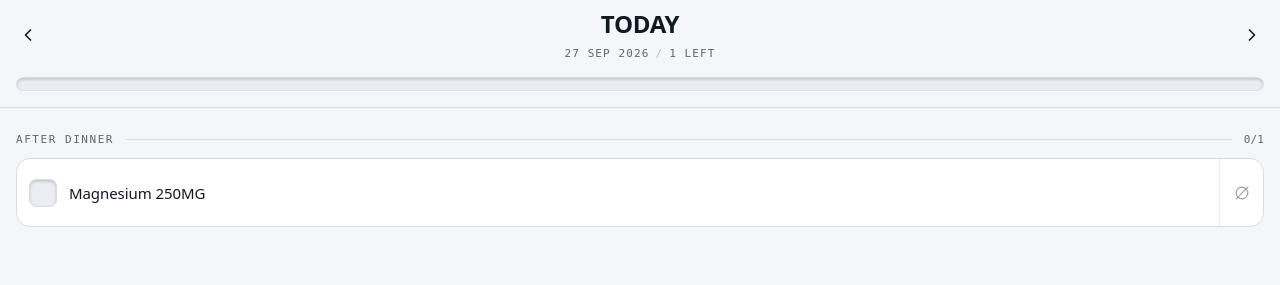
Test: the Today screen › marks an untouched past dose as missed
Click the button named "previous day" at (28, 35), box [12,19,44,51]
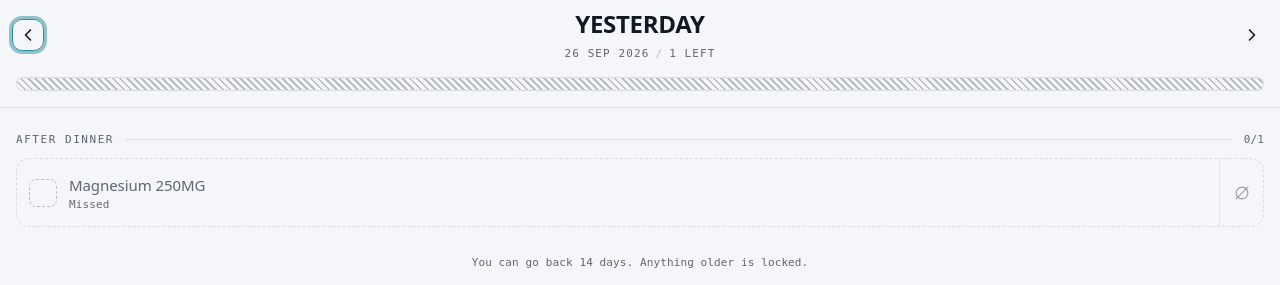
Now the text "Missed" is shown, box [69,198,109,211]
Click the button "Magnesium 250MG Missed" at (137, 185), box [17,159,1219,226]
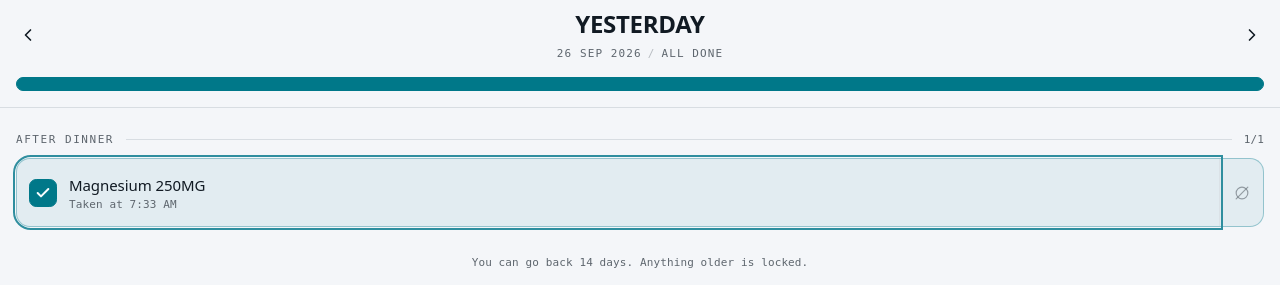
Now the text "Taken at 7:33 AM" is shown, box [69,198,177,211]
